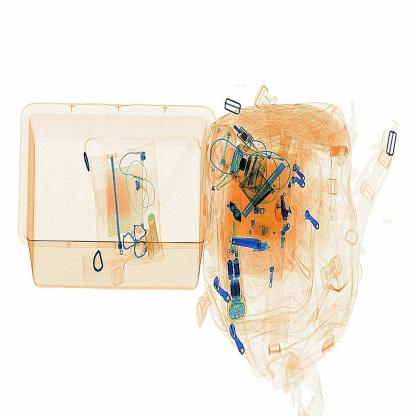wrench: (271, 187, 299, 230)
